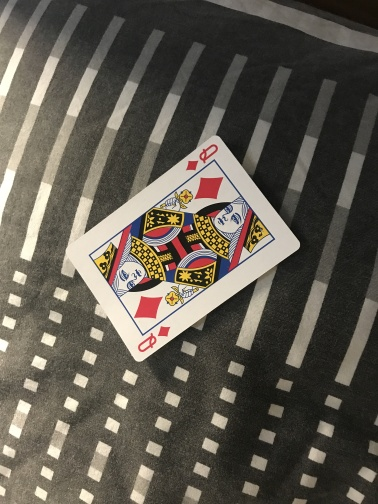queen: (64, 134, 302, 363)
